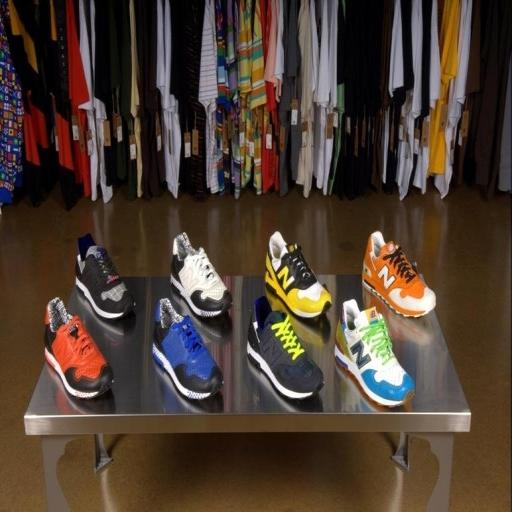shoe: (335, 299, 414, 407), (247, 296, 324, 399), (152, 298, 224, 399), (44, 297, 114, 399), (362, 231, 436, 317), (265, 231, 332, 318), (170, 232, 233, 318), (76, 233, 134, 319), (362, 287, 434, 346), (265, 288, 331, 347)
